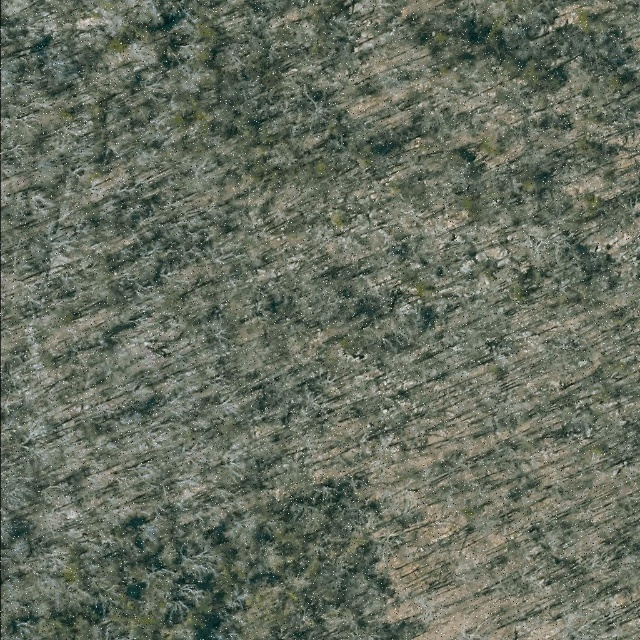vegetation: (0, 2, 640, 640)
